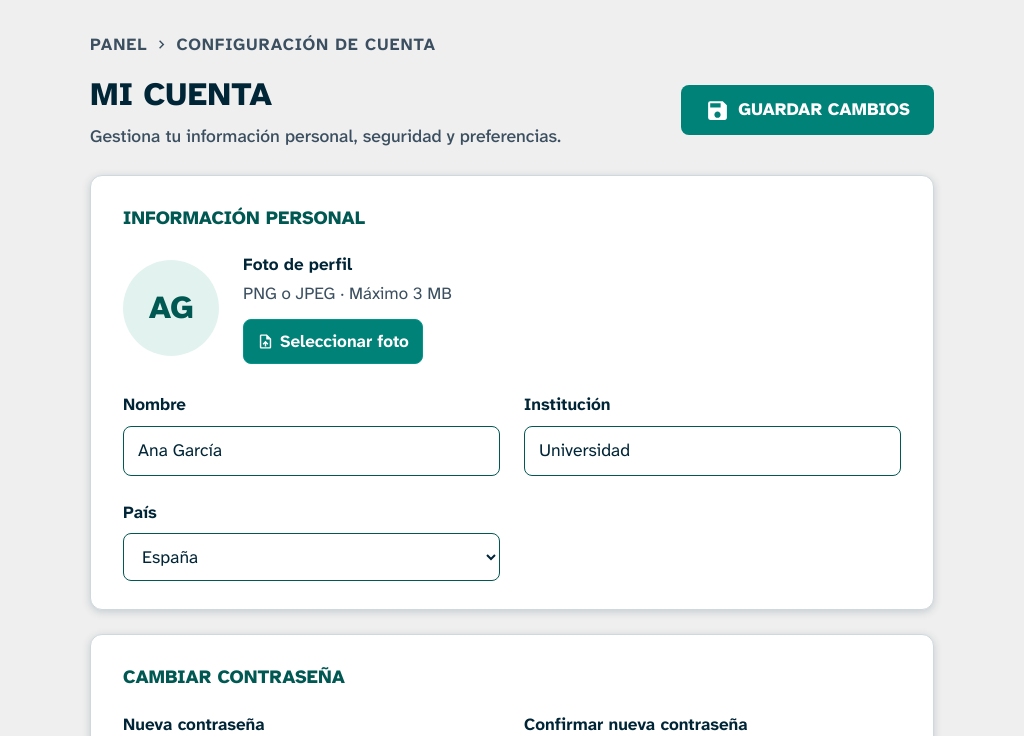
Test: AccountPage › carga la cuenta y evita guardar si no hay cambios
Expected: the field labelled "Nombre" holds "Ana García", [123,426,500,476]
Click the button "GUARDAR CAMBIOS" at (808, 110), box [681,85,934,135]
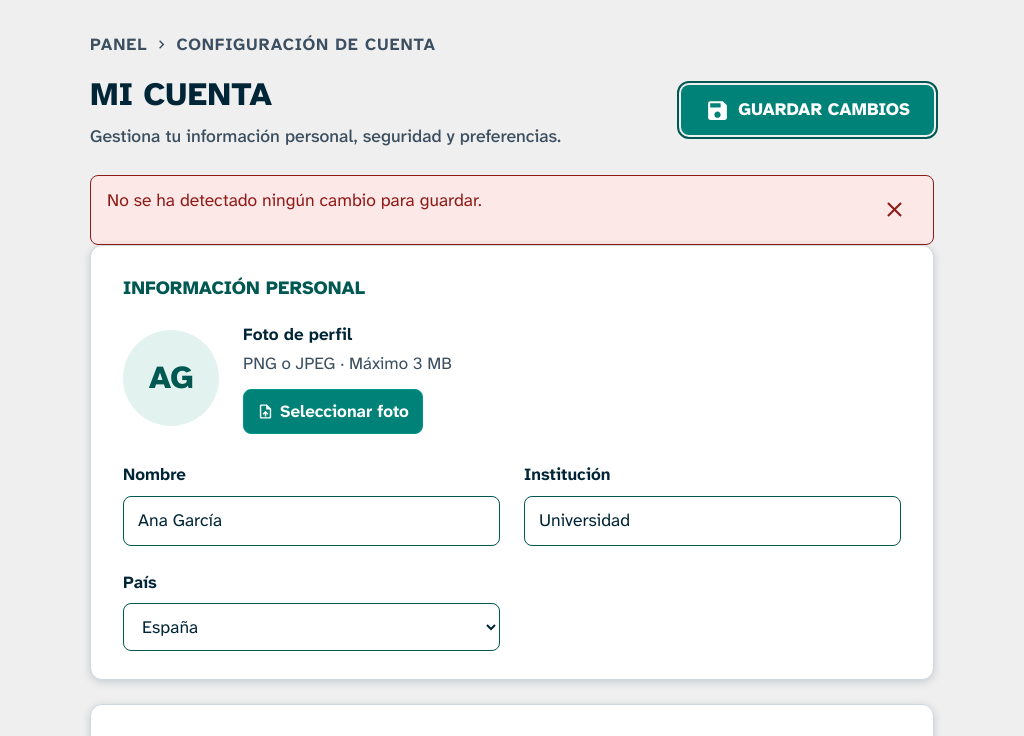
Expected: the message reads "No se ha detectado ningún cambio para guardar.", [107,188,482,212]
